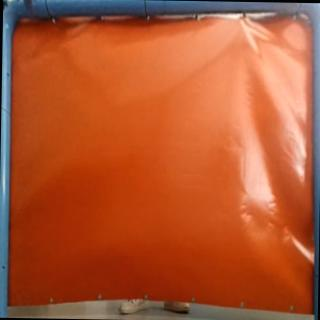Hit-hRxx: (232, 19, 250, 31)
